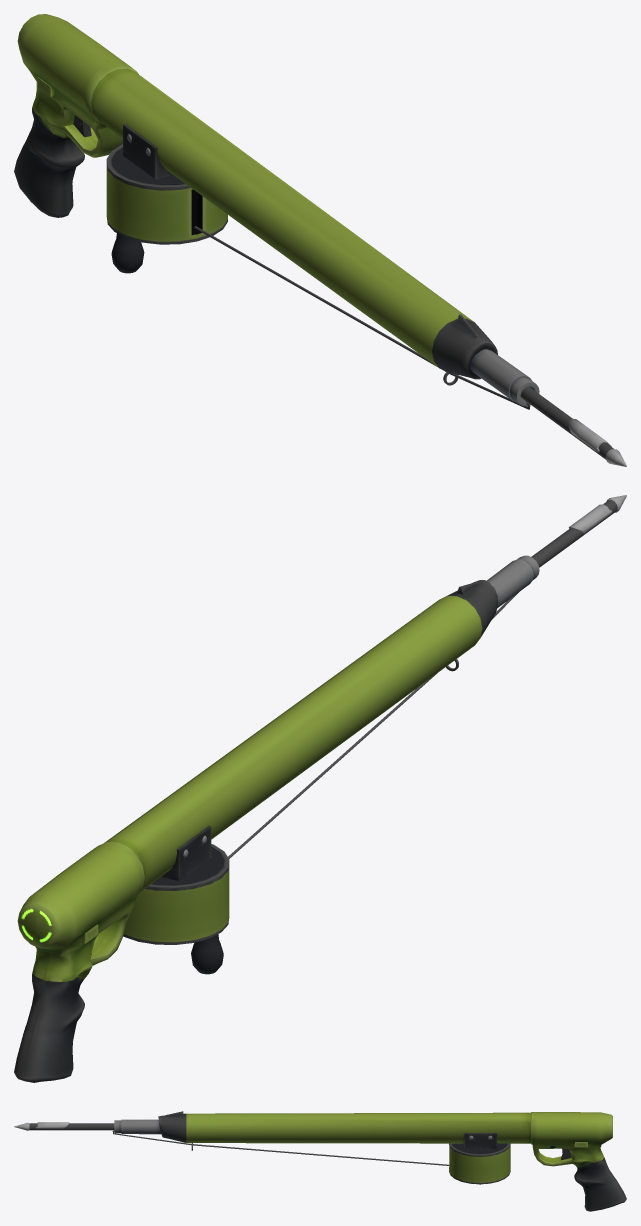
Rendered from SpeargunAndArrow.fbx.
3 views of the same model, one above another, from view 1: azimuth 30°, elevation 25°; view 2: azimuth 150°, elevation 25°; view 3: azimuth 270°, elevation 25° (orthographic). The views are drawn at different scales.
Visible parts, largest first — view 1: Speargun, Arrow, Speargun_Spinner; view 2: Speargun, Arrow, Speargun_Spinner; view 3: Speargun, Arrow, Arrow_Barb.
Part boxes in pixels (left/top/right/bottom): Speargun: left=14, top=14, right=539, bottom=409; Arrow: left=520, top=386, right=626, bottom=466; Speargun_Spinner: left=111, top=233, right=144, bottom=273; Speargun: left=14, top=555, right=539, bottom=1082; Arrow: left=531, top=495, right=626, bottom=567; Speargun_Spinner: left=191, top=934, right=223, bottom=974; Speargun: left=112, top=1111, right=626, bottom=1211; Arrow: left=14, top=1122, right=114, bottom=1130; Arrow_Barb: left=35, top=1122, right=69, bottom=1128.
Size of the model in its own units: 375 by 655 by 3691.
